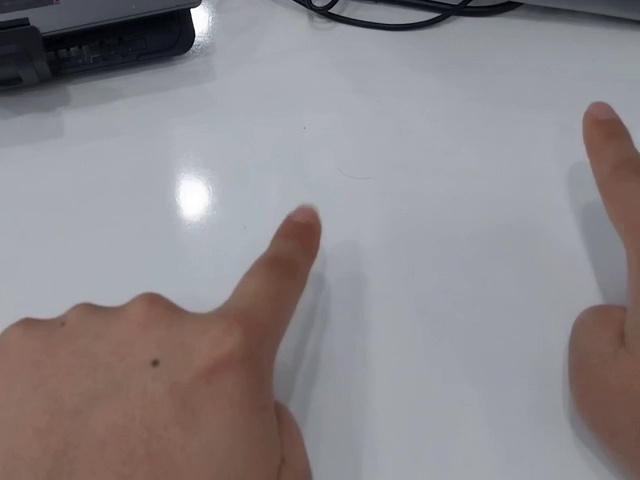fingers: (272, 203, 322, 261), (581, 99, 634, 150)
